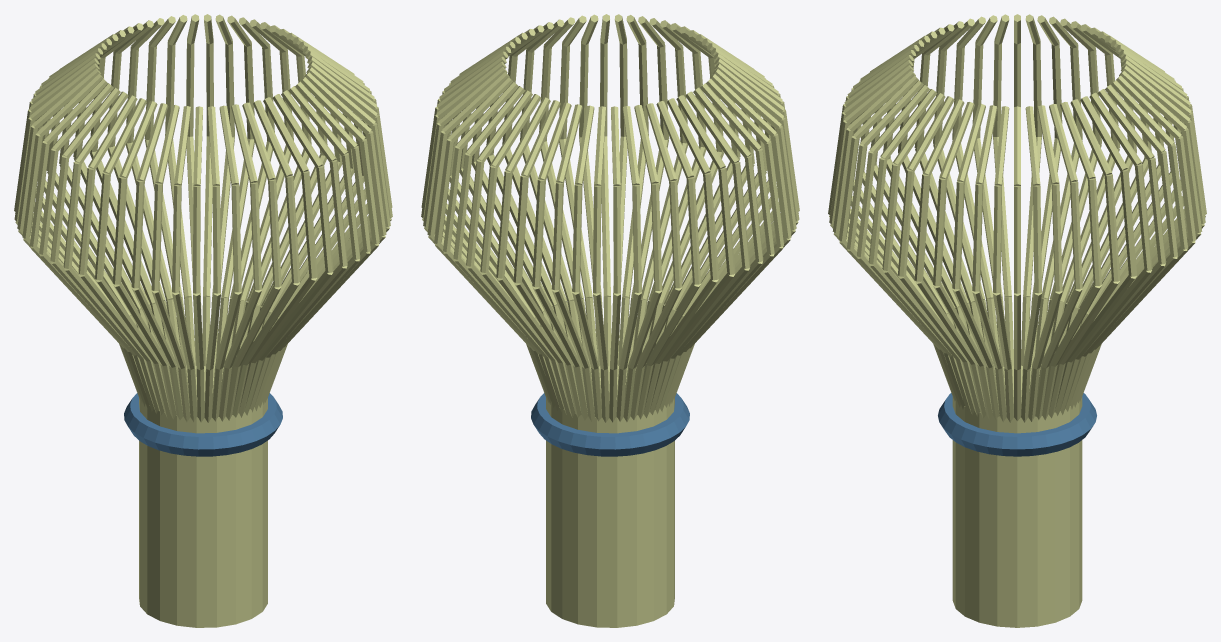
Rendered from tea_chasen.glb.
3 renders of one model, left to right at view 1: azimuth 30°, elevation 25°; view 2: azimuth 150°, elevation 25°; view 3: azimuth 270°, elevation 25°, orthographic.
Parts seen in each view (by area): view 1: Split-bamboo chasen handle, Hand-tied black cord, Whisk bent tine09_01, Whisk bent tine42_02, Whisk bent tine33_02, Whisk bent tine32_02, Whisk bent tine41_02, Whisk bent tine43_02, Whisk bent tine34_02, Whisk bent tine31_02, Whisk bent tine40_02, Whisk bent tine44_02 (+90 smaller); view 2: Split-bamboo chasen handle, Hand-tied black cord, Whisk bent tine47_01, Whisk bent tine14_02, Whisk bent tine23_02, Whisk bent tine15_02, Whisk bent tine24_02, Whisk bent tine13_02, Whisk bent tine22_02, Whisk bent tine25_02, Whisk bent tine16_02, Whisk bent tine12_02 (+90 smaller); view 3: Split-bamboo chasen handle, Hand-tied black cord, Whisk bent tine04_02, Whisk bent tine05_02, Whisk bent tine51_02, Whisk bent tine52_02, Whisk bent tine50_02, Whisk bent tine03_02, Whisk bent tine06_02, Whisk bent tine53_02, Whisk bent tine49_02, Whisk bent tine07_02 (+89 smaller).
Part boxes in pixels (x1=…): Split-bamboo chasen handle: x1=139, y1=366, x2=267, y2=627; Hand-tied black cord: x1=124, y1=393, x2=282, y2=456; Whisk bent tine09_01: x1=203, y1=136, x2=212, y2=296; Whisk bent tine42_02: x1=285, y1=175, x2=300, y2=283; Whisk bent tine33_02: x1=112, y1=177, x2=127, y2=284; Whisk bent tine32_02: x1=95, y1=172, x2=110, y2=280; Whisk bent tine41_02: x1=268, y1=179, x2=281, y2=287; Whisk bent tine43_02: x1=301, y1=171, x2=317, y2=278; Whisk bent tine34_02: x1=131, y1=180, x2=144, y2=288; Whisk bent tine31_02: x1=78, y1=167, x2=95, y2=274; Whisk bent tine40_02: x1=250, y1=182, x2=262, y2=290; Whisk bent tine44_02: x1=316, y1=165, x2=333, y2=272; Split-bamboo chasen handle: x1=546, y1=366, x2=674, y2=627; Hand-tied black cord: x1=531, y1=393, x2=689, y2=456; Whisk bent tine47_01: x1=601, y1=136, x2=610, y2=296; Whisk bent tine14_02: x1=513, y1=175, x2=528, y2=283; Whisk bent tine23_02: x1=686, y1=177, x2=701, y2=284; Whisk bent tine15_02: x1=532, y1=179, x2=545, y2=287; Whisk bent tine24_02: x1=703, y1=172, x2=718, y2=280; Whisk bent tine13_02: x1=496, y1=171, x2=512, y2=278; Whisk bent tine22_02: x1=669, y1=180, x2=682, y2=288; Whisk bent tine25_02: x1=718, y1=167, x2=735, y2=274; Whisk bent tine16_02: x1=551, y1=182, x2=563, y2=290; Whisk bent tine12_02: x1=480, y1=165, x2=497, y2=272; Split-bamboo chasen handle: x1=952, y1=365, x2=1082, y2=627; Hand-tied black cord: x1=938, y1=393, x2=1096, y2=456; Whisk bent tine04_02: x1=1087, y1=178, x2=1101, y2=285; Whisk bent tine05_02: x1=1104, y1=174, x2=1120, y2=281; Whisk bent tine51_02: x1=914, y1=174, x2=930, y2=281; Whisk bent tine52_02: x1=933, y1=178, x2=947, y2=285; Whisk bent tine50_02: x1=898, y1=169, x2=914, y2=276; Whisk bent tine03_02: x1=1070, y1=181, x2=1082, y2=289; Whisk bent tine06_02: x1=1120, y1=169, x2=1136, y2=276; Whisk bent tine53_02: x1=952, y1=181, x2=964, y2=289; Whisk bent tine49_02: x1=882, y1=163, x2=900, y2=270; Whisk bent tine07_02: x1=1135, y1=163, x2=1152, y2=270.
Bounding box in the file's own units: 1.24 × 1.95 × 1.24.
